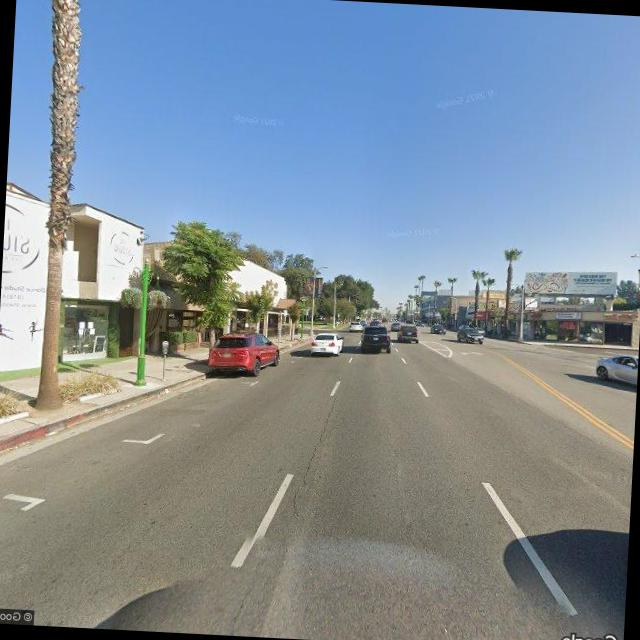pothole: (289, 376, 344, 519)
